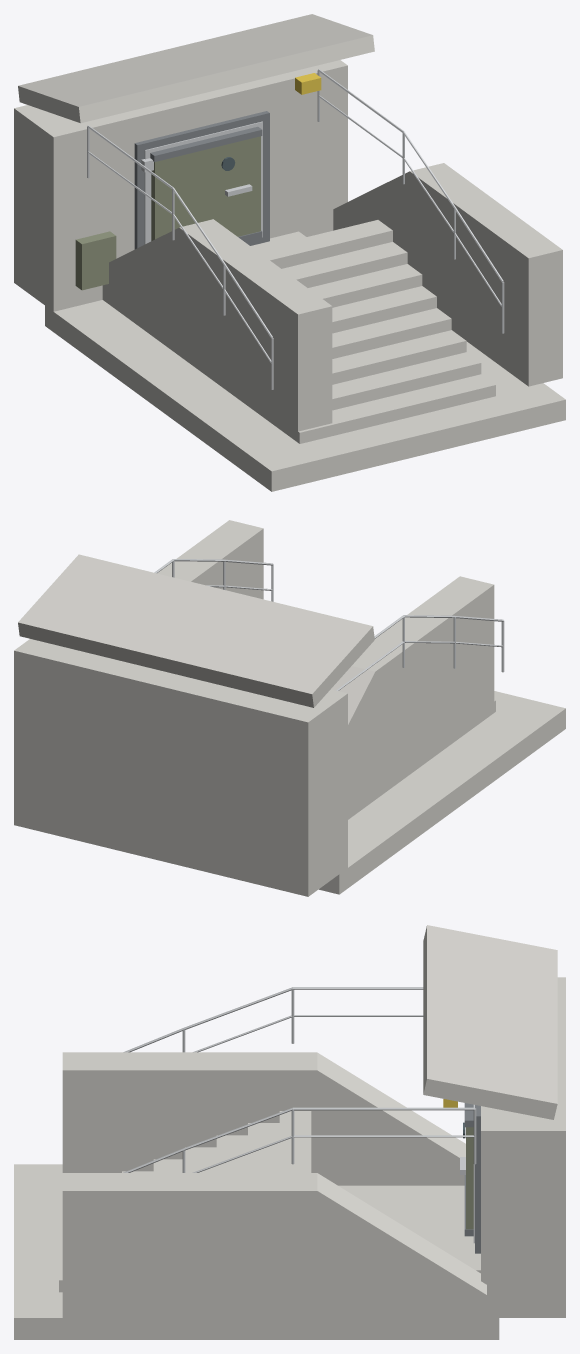
File: cold-war-missile-silo-and-command-bunker-hardened-entr-24be965c__15679.glb
The picture shows the model from 3 angles, top to bottom: view 1: azimuth 30°, elevation 25°; view 2: azimuth 150°, elevation 25°; view 3: azimuth 270°, elevation 25°; orthographic projection. The views are drawn at different scales.
Visible parts, largest first — view 1: hardened-entry-portal, portal-door (×2); view 2: hardened-entry-portal; view 3: hardened-entry-portal, portal-door.
Boxes of the visible parts, x1,y1,x2,y2 form: hardened-entry-portal: (14, 14, 565, 491); portal-door (×2): (150, 126, 262, 241); hardened-entry-portal: (14, 520, 565, 896); hardened-entry-portal: (14, 925, 565, 1339); portal-door: (466, 1127, 473, 1229).
Bounding box in the file's own units: 6.4 × 4.75 × 9.1.
